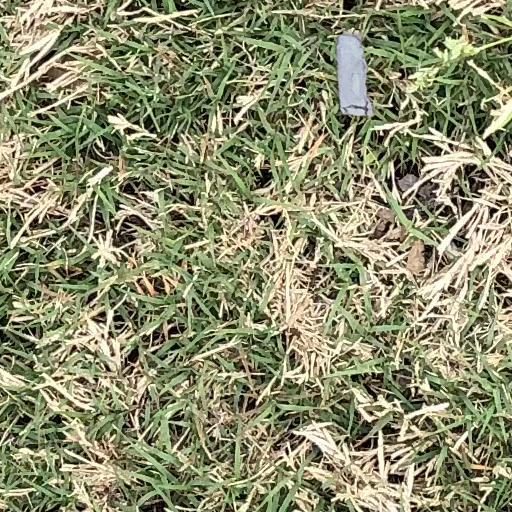smoke: (337, 33, 372, 116)
